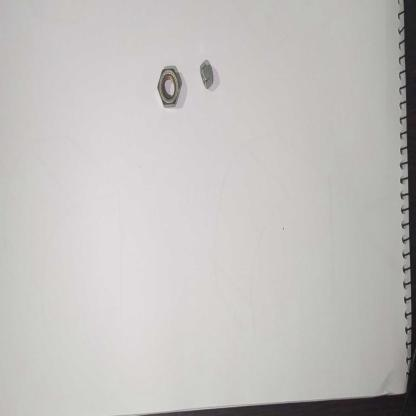NUTS: (152, 51, 184, 115), (197, 54, 221, 100)
